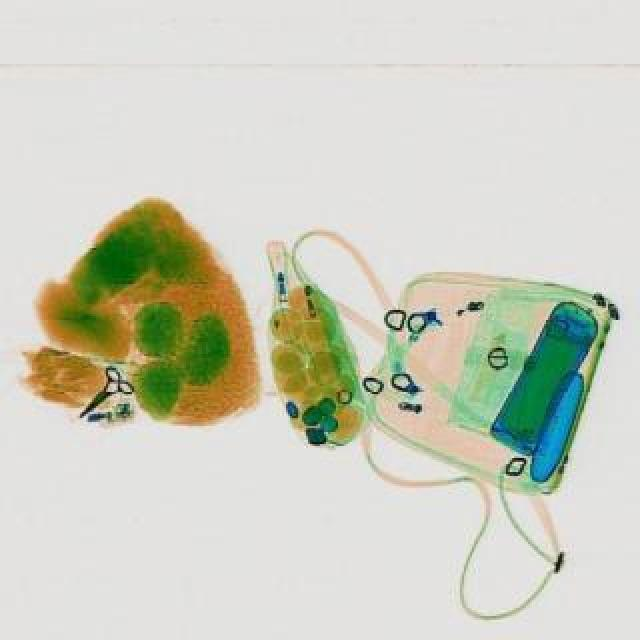pliers: (62, 362, 134, 426)
